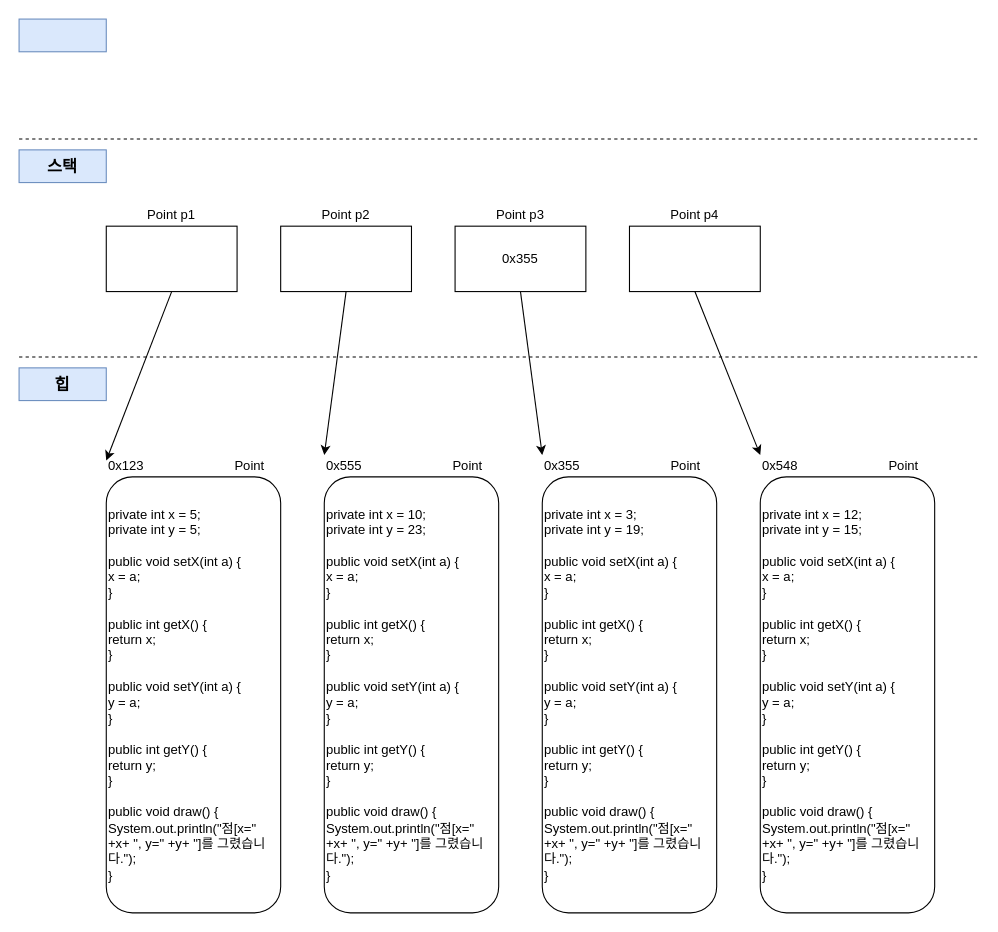
This 998x932 diagram has some shape labels left out. Each missing label, with the centre of its shape:
0x123: (x=171, y=258)
0x546: (x=694, y=258)
0x555: (x=345, y=258)
스태틱: (x=62, y=35)
